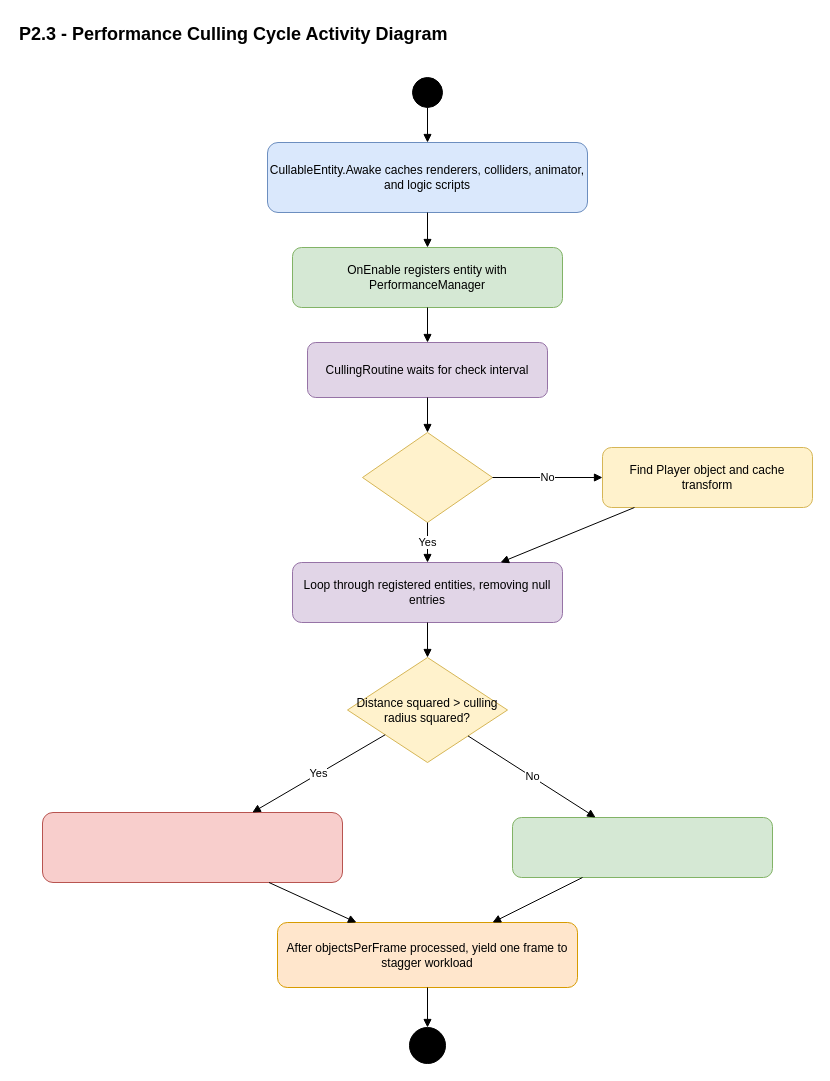
The diagram is 830 pixels wide and 1081 high, and some of its shapes have lost their labels. Each missing label, with the box of its shape:
Player transform known?: (362, 432, 492, 522)
SetCullState(false): re-enable cached components: (512, 816, 772, 878)
SetCullState(true): disable renderers, colliders, animator, and logic scripts: (42, 812, 342, 882)
